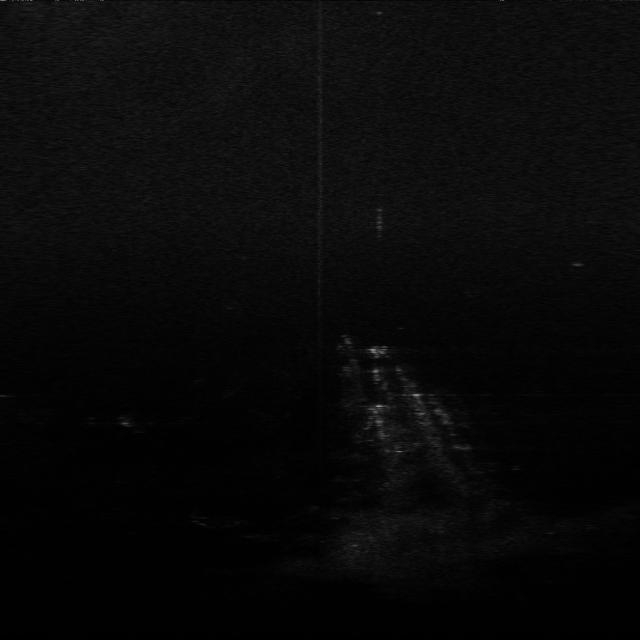rov: (367, 340, 389, 359)
